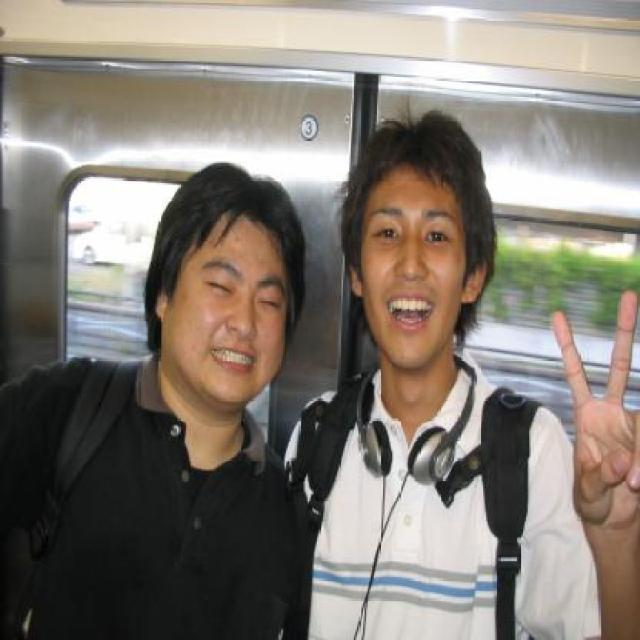earphone: (358, 345, 494, 495)
